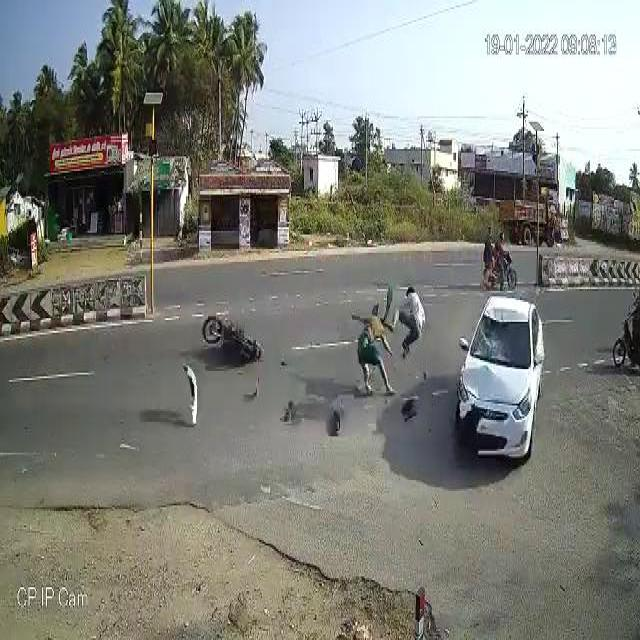accident: (348, 262, 549, 473), (171, 314, 269, 426)
